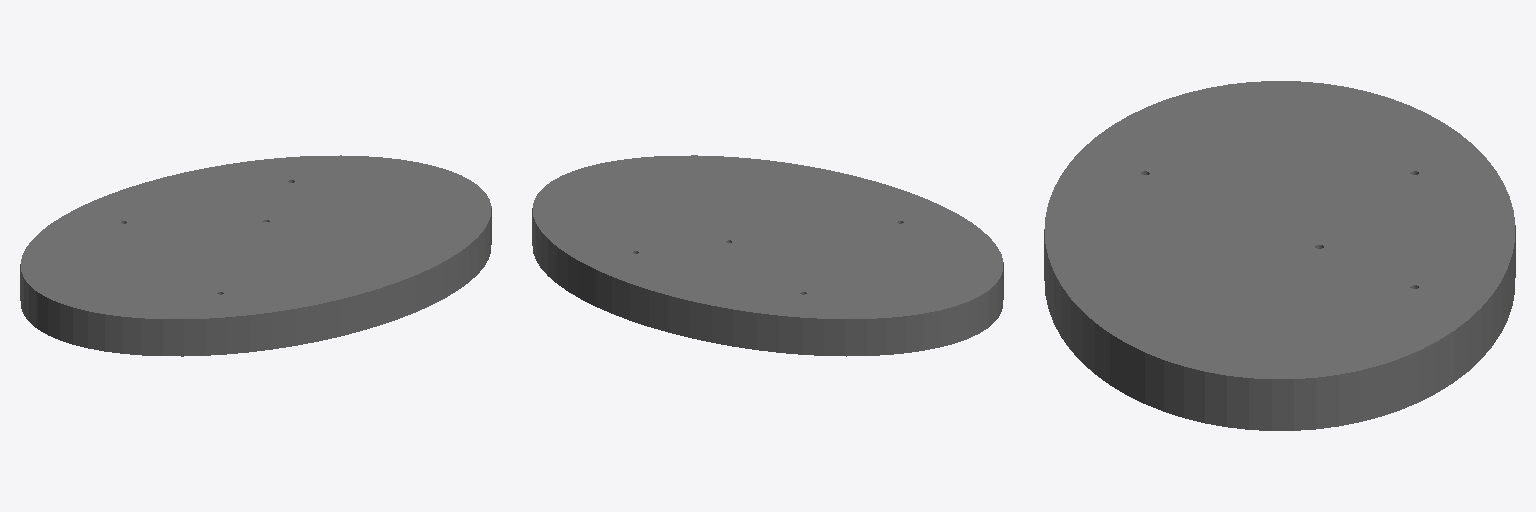
--- Render facts (derived) ---
Views: 3 orthographic renders of the robot side by side, from view 1: azimuth 30°, elevation 25°; view 2: azimuth 150°, elevation 25°; view 3: azimuth 270°, elevation 25°.
Model push_object with 5 links and 4 joints (1 continuous, 3 prismatic), rooted at link_x, posed every joint at zero.
Visible links, largest first — view 1: link_object; view 2: link_object; view 3: link_object.
Boxes of the visible links, x1,y1,x2,y2 form: link_object: (20,155,491,356); link_object: (532,155,1003,356); link_object: (1044,81,1515,430).
Size in the robot's own frame: 0.1572 by 0.1048 by 0.0127 metres.
Meshes: 1 distinct files referenced, 1 mesh visuals loaded (1 OBJ).

The robot description file, URDF, robot "push_object":
<?xml version="1.0" ?>
<robot name="push_object">
  <link name="link_x">
    <inertial>
      <mass value="0"/>
      <inertia ixx="1.0" ixy="0.0" ixz="0.0" iyy="1.0" iyz="0.0" izz="1.0"/>
    </inertial>
  </link>

  <link name="link_y">
    <inertial>
      <mass value="0"/>
      <inertia ixx="1.0" ixy="0.0" ixz="0.0" iyy="1.0" iyz="0.0" izz="1.0"/>
    </inertial>
  </link>
  
  <link name="link_z">
    <inertial>
      <mass value="0"/>
      <inertia ixx="1.0" ixy="0.0" ixz="0.0" iyy="1.0" iyz="0.0" izz="1.0"/>
    </inertial>
  </link>
  
  <link name="link_yaw">
    <inertial>
      <mass value="0"/>
      <inertia ixx="1.0" ixy="0.0" ixz="0.0" iyy="1.0" iyz="0.0" izz="1.0"/>
    </inertial>
  </link>

  <link name="link_object">
    <contact>
      <rolling_friction value="0.03"/>
      <spinning_friction value="0.03"/>
    </contact>

    <inertial>
      <origin rpy="0 0 0" xyz="0 0 0"/>
       <mass value="0.006350"/>
       <inertia ixx="1" ixy="0" ixz="0" iyy="1" iyz="0" izz="1.334000"/>
    </inertial>
    <visual>
      <origin rpy="0 0 0" xyz="0 0 0.002950"/>
      <geometry>
        <mesh filename="ellip3.obj" scale="1.0 1.0 1.0"/>      
      </geometry>
      <material name="gray">
        <color rgba="0.5 0.5 0.5 1"/>
        <specular rgb="1 1 1"/>
      </material>
    </visual>
    
    <collision>
      <origin rpy="0 0 0" xyz="-0.0700 -0.0200 -0.0063"/>
      <geometry>
        <sphere radius="0.0065"/>
      </geometry>
    </collision>
        
    <collision>
      <origin rpy="0 0 0" xyz="-0.0700 -0.0100 -0.0063"/>
      <geometry>
        <sphere radius="0.0065"/>
      </geometry>
    </collision>
        
    <collision>
      <origin rpy="0 0 0" xyz="-0.0700 0.0000 -0.0063"/>
      <geometry>
        <sphere radius="0.0065"/>
      </geometry>
    </collision>
        
    <collision>
      <origin rpy="0 0 0" xyz="-0.0700 0.0100 -0.0063"/>
      <geometry>
        <sphere radius="0.0065"/>
      </geometry>
    </collision>
        
    <collision>
      <origin rpy="0 0 0" xyz="-0.0700 0.0200 -0.0063"/>
      <geometry>
        <sphere radius="0.0065"/>
      </geometry>
    </collision>
        
    <collision>
      <origin rpy="0 0 0" xyz="-0.0600 -0.0300 -0.0063"/>
      <geometry>
        <sphere radius="0.0065"/>
      </geometry>
    </collision>
        
    <collision>
      <origin rpy="0 0 0" xyz="-0.0600 -0.0200 -0.0063"/>
      <geometry>
        <sphere radius="0.0065"/>
      </geometry>
    </collision>
        
    <collision>
      <origin rpy="0 0 0" xyz="-0.0600 -0.0100 -0.0063"/>
      <geometry>
        <sphere radius="0.0065"/>
      </geometry>
    </collision>
        
    <collision>
      <origin rpy="0 0 0" xyz="-0.0600 0.0000 -0.0063"/>
      <geometry>
        <sphere radius="0.0065"/>
      </geometry>
    </collision>
        
    <collision>
      <origin rpy="0 0 0" xyz="-0.0600 0.0100 -0.0063"/>
      <geometry>
        <sphere radius="0.0065"/>
      </geometry>
    </collision>
        
    <collision>
      <origin rpy="0 0 0" xyz="-0.0600 0.0200 -0.0063"/>
      <geometry>
        <sphere radius="0.0065"/>
      </geometry>
    </collision>
        
    <collision>
      <origin rpy="0 0 0" xyz="-0.0600 0.0300 -0.0063"/>
      <geometry>
        <sphere radius="0.0065"/>
      </geometry>
    </collision>
        
    <collision>
      <origin rpy="0 0 0" xyz="-0.0500 -0.0400 -0.0063"/>
      <geometry>
        <sphere radius="0.0065"/>
      </geometry>
    </collision>
        
    <collision>
      <origin rpy="0 0 0" xyz="-0.0500 -0.0300 -0.0063"/>
      <geometry>
        <sphere radius="0.0065"/>
      </geometry>
    </collision>
        
    <collision>
      <origin rpy="0 0 0" xyz="-0.0500 -0.0200 -0.0063"/>
      <geometry>
        <sphere radius="0.0065"/>
      </geometry>
    </collision>
        
    <collision>
      <origin rpy="0 0 0" xyz="-0.0500 -0.0100 -0.0063"/>
      <geometry>
        <sphere radius="0.0065"/>
      </geometry>
    </collision>
        
    <collision>
      <origin rpy="0 0 0" xyz="-0.0500 0.0000 -0.0063"/>
      <geometry>
        <sphere radius="0.0065"/>
      </geometry>
    </collision>
        
    <collision>
      <origin rpy="0 0 0" xyz="-0.0500 0.0100 -0.0063"/>
      <geometry>
        <sphere radius="0.0065"/>
      </geometry>
    </collision>
        
    <collision>
      <origin rpy="0 0 0" xyz="-0.0500 0.0200 -0.0063"/>
      <geometry>
        <sphere radius="0.0065"/>
      </geometry>
    </collision>
        
    <collision>
      <origin rpy="0 0 0" xyz="-0.0500 0.0300 -0.0063"/>
      <geometry>
        <sphere radius="0.0065"/>
      </geometry>
    </collision>
        
    <collision>
      <origin rpy="0 0 0" xyz="-0.0500 0.0400 -0.0063"/>
      <geometry>
        <sphere radius="0.0065"/>
      </geometry>
    </collision>
        
    <collision>
      <origin rpy="0 0 0" xyz="-0.0400 -0.0400 -0.0063"/>
      <geometry>
        <sphere radius="0.0065"/>
      </geometry>
    </collision>
        
    <collision>
      <origin rpy="0 0 0" xyz="-0.0400 -0.0300 -0.0063"/>
      <geometry>
        <sphere radius="0.0065"/>
      </geometry>
    </collision>
        
    <collision>
      <origin rpy="0 0 0" xyz="-0.0400 -0.0200 -0.0063"/>
      <geometry>
        <sphere radius="0.0065"/>
      </geometry>
    </collision>
        
    <collision>
      <origin rpy="0 0 0" xyz="-0.0400 -0.0100 -0.0063"/>
      <geometry>
        <sphere radius="0.0065"/>
      </geometry>
    </collision>
        
    <collision>
      <origin rpy="0 0 0" xyz="-0.0400 0.0000 -0.0063"/>
      <geometry>
        <sphere radius="0.0065"/>
      </geometry>
    </collision>
        
    <collision>
      <origin rpy="0 0 0" xyz="-0.0400 0.0100 -0.0063"/>
      <geometry>
        <sphere radius="0.0065"/>
      </geometry>
    </collision>
        
    <collision>
      <origin rpy="0 0 0" xyz="-0.0400 0.0200 -0.0063"/>
      <geometry>
        <sphere radius="0.0065"/>
      </geometry>
    </collision>
        
    <collision>
      <origin rpy="0 0 0" xyz="-0.0400 0.0300 -0.0063"/>
      <geometry>
        <sphere radius="0.0065"/>
      </geometry>
    </collision>
        
    <collision>
      <origin rpy="0 0 0" xyz="-0.0400 0.0400 -0.0063"/>
      <geometry>
        <sphere radius="0.0065"/>
      </geometry>
    </collision>
        
    <collision>
      <origin rpy="0 0 0" xyz="-0.0300 -0.0400 -0.0063"/>
      <geometry>
        <sphere radius="0.0065"/>
      </geometry>
    </collision>
        
    <collision>
      <origin rpy="0 0 0" xyz="-0.0300 -0.0300 -0.0063"/>
      <geometry>
        <sphere radius="0.0065"/>
      </geometry>
    </collision>
        
    <collision>
      <origin rpy="0 0 0" xyz="-0.0300 -0.0200 -0.0063"/>
      <geometry>
        <sphere radius="0.0065"/>
      </geometry>
    </collision>
        
    <collision>
      <origin rpy="0 0 0" xyz="-0.0300 -0.0100 -0.0063"/>
      <geometry>
        <sphere radius="0.0065"/>
      </geometry>
    </collision>
        
    <collision>
      <origin rpy="0 0 0" xyz="-0.0300 0.0000 -0.0063"/>
      <geometry>
        <sphere radius="0.0065"/>
      </geometry>
    </collision>
        
    <collision>
      <origin rpy="0 0 0" xyz="-0.0300 0.0100 -0.0063"/>
      <geometry>
        <sphere radius="0.0065"/>
      </geometry>
    </collision>
        
    <collision>
      <origin rpy="0 0 0" xyz="-0.0300 0.0200 -0.0063"/>
      <geometry>
        <sphere radius="0.0065"/>
      </geometry>
    </collision>
        
    <collision>
      <origin rpy="0 0 0" xyz="-0.0300 0.0300 -0.0063"/>
      <geometry>
        <sphere radius="0.0065"/>
      </geometry>
    </collision>
        
    <collision>
      <origin rpy="0 0 0" xyz="-0.0300 0.0400 -0.0063"/>
      <geometry>
        <sphere radius="0.0065"/>
      </geometry>
    </collision>
        
    <collision>
      <origin rpy="0 0 0" xyz="-0.0200 -0.0500 -0.0063"/>
      <geometry>
        <sphere radius="0.0065"/>
      </geometry>
    </collision>
        
    <collision>
      <origin rpy="0 0 0" xyz="-0.0200 -0.0400 -0.0063"/>
      <geometry>
        <sphere radius="0.0065"/>
      </geometry>
    </collision>
        
    <collision>
      <origin rpy="0 0 0" xyz="-0.0200 -0.0300 -0.0063"/>
      <geometry>
        <sphere radius="0.0065"/>
      </geometry>
    </collision>
        
    <collision>
      <origin rpy="0 0 0" xyz="-0.0200 -0.0200 -0.0063"/>
      <geometry>
        <sphere radius="0.0065"/>
      </geometry>
    </collision>
        
    <collision>
      <origin rpy="0 0 0" xyz="-0.0200 -0.0100 -0.0063"/>
      <geometry>
        <sphere radius="0.0065"/>
      </geometry>
    </collision>
        
    <collision>
      <origin rpy="0 0 0" xyz="-0.0200 0.0000 -0.0063"/>
      <geometry>
        <sphere radius="0.0065"/>
      </geometry>
    </collision>
        
    <collision>
      <origin rpy="0 0 0" xyz="-0.0200 0.0100 -0.0063"/>
      <geometry>
        <sphere radius="0.0065"/>
      </geometry>
    </collision>
        
    <collision>
      <origin rpy="0 0 0" xyz="-0.0200 0.0200 -0.0063"/>
      <geometry>
        <sphere radius="0.0065"/>
      </geometry>
    </collision>
        
    <collision>
      <origin rpy="0 0 0" xyz="-0.0200 0.0300 -0.0063"/>
      <geometry>
        <sphere radius="0.0065"/>
      </geometry>
    </collision>
        
    <collision>
      <origin rpy="0 0 0" xyz="-0.0200 0.0400 -0.0063"/>
      <geometry>
        <sphere radius="0.0065"/>
      </geometry>
    </collision>
        
    <collision>
      <origin rpy="0 0 0" xyz="-0.0200 0.0500 -0.0063"/>
      <geometry>
        <sphere radius="0.0065"/>
      </geometry>
    </collision>
        
    <collision>
      <origin rpy="0 0 0" xyz="-0.0100 -0.0500 -0.0063"/>
      <geometry>
        <sphere radius="0.0065"/>
      </geometry>
    </collision>
        
    <collision>
      <origin rpy="0 0 0" xyz="-0.0100 -0.0400 -0.0063"/>
      <geometry>
        <sphere radius="0.0065"/>
      </geometry>
    </collision>
        
    <collision>
      <origin rpy="0 0 0" xyz="-0.0100 -0.0300 -0.0063"/>
      <geometry>
        <sphere radius="0.0065"/>
      </geometry>
    </collision>
        
    <collision>
      <origin rpy="0 0 0" xyz="-0.0100 -0.0200 -0.0063"/>
      <geometry>
        <sphere radius="0.0065"/>
      </geometry>
    </collision>
        
    <collision>
      <origin rpy="0 0 0" xyz="-0.0100 -0.0100 -0.0063"/>
      <geometry>
        <sphere radius="0.0065"/>
      </geometry>
    </collision>
        
    <collision>
      <origin rpy="0 0 0" xyz="-0.0100 0.0000 -0.0063"/>
      <geometry>
        <sphere radius="0.0065"/>
      </geometry>
    </collision>
        
    <collision>
      <origin rpy="0 0 0" xyz="-0.0100 0.0100 -0.0063"/>
      <geometry>
        <sphere radius="0.0065"/>
      </geometry>
    </collision>
        
    <collision>
      <origin rpy="0 0 0" xyz="-0.0100 0.0200 -0.0063"/>
      <geometry>
        <sphere radius="0.0065"/>
      </geometry>
    </collision>
        
    <collision>
      <origin rpy="0 0 0" xyz="-0.0100 0.0300 -0.0063"/>
      <geometry>
        <sphere radius="0.0065"/>
      </geometry>
    </collision>
        
    <collision>
      <origin rpy="0 0 0" xyz="-0.0100 0.0400 -0.0063"/>
      <geometry>
        <sphere radius="0.0065"/>
      </geometry>
    </collision>
        
    <collision>
      <origin rpy="0 0 0" xyz="-0.0100 0.0500 -0.0063"/>
      <geometry>
        <sphere radius="0.0065"/>
      </geometry>
    </collision>
        
    <collision>
      <origin rpy="0 0 0" xyz="-0.0000 -0.0500 -0.0063"/>
      <geometry>
        <sphere radius="0.0065"/>
      </geometry>
    </collision>
        
    <collision>
      <origin rpy="0 0 0" xyz="-0.0000 -0.0400 -0.0063"/>
      <geometry>
        <sphere radius="0.0065"/>
      </geometry>
    </collision>
        
    <collision>
      <origin rpy="0 0 0" xyz="-0.0000 -0.0300 -0.0063"/>
      <geometry>
        <sphere radius="0.0065"/>
      </geometry>
    </collision>
        
    <collision>
      <origin rpy="0 0 0" xyz="-0.0000 -0.0200 -0.0063"/>
      <geometry>
        <sphere radius="0.0065"/>
      </geometry>
    </collision>
        
    <collision>
      <origin rpy="0 0 0" xyz="-0.0000 -0.0100 -0.0063"/>
      <geometry>
        <sphere radius="0.0065"/>
      </geometry>
    </collision>
        
    <collision>
      <origin rpy="0 0 0" xyz="-0.0000 0.0000 -0.0063"/>
      <geometry>
        <sphere radius="0.0065"/>
      </geometry>
    </collision>
        
    <collision>
      <origin rpy="0 0 0" xyz="-0.0000 0.0100 -0.0063"/>
      <geometry>
        <sphere radius="0.0065"/>
      </geometry>
    </collision>
        
    <collision>
      <origin rpy="0 0 0" xyz="-0.0000 0.0200 -0.0063"/>
      <geometry>
        <sphere radius="0.0065"/>
      </geometry>
    </collision>
        
    <collision>
      <origin rpy="0 0 0" xyz="-0.0000 0.0300 -0.0063"/>
      <geometry>
        <sphere radius="0.0065"/>
      </geometry>
    </collision>
        
    <collision>
      <origin rpy="0 0 0" xyz="-0.0000 0.0400 -0.0063"/>
      <geometry>
        <sphere radius="0.0065"/>
      </geometry>
    </collision>
        
    <collision>
      <origin rpy="0 0 0" xyz="-0.0000 0.0500 -0.0063"/>
      <geometry>
        <sphere radius="0.0065"/>
      </geometry>
    </collision>
        
    <collision>
      <origin rpy="0 0 0" xyz="0.0100 -0.0500 -0.0063"/>
      <geometry>
        <sphere radius="0.0065"/>
      </geometry>
    </collision>
        
    <collision>
      <origin rpy="0 0 0" xyz="0.0100 -0.0400 -0.0063"/>
      <geometry>
        <sphere radius="0.0065"/>
      </geometry>
    </collision>
        
    <collision>
      <origin rpy="0 0 0" xyz="0.0100 -0.0300 -0.0063"/>
      <geometry>
        <sphere radius="0.0065"/>
      </geometry>
    </collision>
        
    <collision>
      <origin rpy="0 0 0" xyz="0.0100 -0.0200 -0.0063"/>
      <geometry>
        <sphere radius="0.0065"/>
      </geometry>
    </collision>
        
    <collision>
      <origin rpy="0 0 0" xyz="0.0100 -0.0100 -0.0063"/>
      <geometry>
        <sphere radius="0.0065"/>
      </geometry>
    </collision>
        
    <collision>
      <origin rpy="0 0 0" xyz="0.0100 0.0000 -0.0063"/>
      <geometry>
        <sphere radius="0.0065"/>
      </geometry>
    </collision>
        
    <collision>
      <origin rpy="0 0 0" xyz="0.0100 0.0100 -0.0063"/>
      <geometry>
        <sphere radius="0.0065"/>
      </geometry>
    </collision>
        
    <collision>
      <origin rpy="0 0 0" xyz="0.0100 0.0200 -0.0063"/>
      <geometry>
        <sphere radius="0.0065"/>
      </geometry>
    </collision>
        
    <collision>
      <origin rpy="0 0 0" xyz="0.0100 0.0300 -0.0063"/>
      <geometry>
        <sphere radius="0.0065"/>
      </geometry>
    </collision>
        
    <collision>
      <origin rpy="0 0 0" xyz="0.0100 0.0400 -0.0063"/>
      <geometry>
        <sphere radius="0.0065"/>
      </geometry>
    </collision>
        
    <collision>
      <origin rpy="0 0 0" xyz="0.0100 0.0500 -0.0063"/>
      <geometry>
        <sphere radius="0.0065"/>
      </geometry>
    </collision>
        
    <collision>
      <origin rpy="0 0 0" xyz="0.0200 -0.0500 -0.0063"/>
      <geometry>
        <sphere radius="0.0065"/>
      </geometry>
    </collision>
        
    <collision>
      <origin rpy="0 0 0" xyz="0.0200 -0.0400 -0.0063"/>
      <geometry>
        <sphere radius="0.0065"/>
      </geometry>
    </collision>
        
    <collision>
      <origin rpy="0 0 0" xyz="0.0200 -0.0300 -0.0063"/>
      <geometry>
        <sphere radius="0.0065"/>
      </geometry>
    </collision>
        
    <collision>
      <origin rpy="0 0 0" xyz="0.0200 -0.0200 -0.0063"/>
      <geometry>
        <sphere radius="0.0065"/>
      </geometry>
    </collision>
        
    <collision>
      <origin rpy="0 0 0" xyz="0.0200 -0.0100 -0.0063"/>
      <geometry>
        <sphere radius="0.0065"/>
      </geometry>
    </collision>
        
    <collision>
      <origin rpy="0 0 0" xyz="0.0200 0.0000 -0.0063"/>
      <geometry>
        <sphere radius="0.0065"/>
      </geometry>
    </collision>
        
    <collision>
      <origin rpy="0 0 0" xyz="0.0200 0.0100 -0.0063"/>
      <geometry>
        <sphere radius="0.0065"/>
      </geometry>
    </collision>
        
    <collision>
      <origin rpy="0 0 0" xyz="0.0200 0.0200 -0.0063"/>
      <geometry>
        <sphere radius="0.0065"/>
      </geometry>
    </collision>
        
    <collision>
      <origin rpy="0 0 0" xyz="0.0200 0.0300 -0.0063"/>
      <geometry>
        <sphere radius="0.0065"/>
      </geometry>
    </collision>
        
    <collision>
      <origin rpy="0 0 0" xyz="0.0200 0.0400 -0.0063"/>
      <geometry>
        <sphere radius="0.0065"/>
      </geometry>
    </collision>
        
    <collision>
      <origin rpy="0 0 0" xyz="0.0200 0.0500 -0.0063"/>
      <geometry>
        <sphere radius="0.0065"/>
      </geometry>
    </collision>
        
    <collision>
      <origin rpy="0 0 0" xyz="0.0300 -0.0400 -0.0063"/>
      <geometry>
        <sphere radius="0.0065"/>
      </geometry>
    </collision>
        
    <collision>
      <origin rpy="0 0 0" xyz="0.0300 -0.0300 -0.0063"/>
      <geometry>
        <sphere radius="0.0065"/>
      </geometry>
    </collision>
        
    <collision>
      <origin rpy="0 0 0" xyz="0.0300 -0.0200 -0.0063"/>
      <geometry>
        <sphere radius="0.0065"/>
      </geometry>
    </collision>
        
    <collision>
      <origin rpy="0 0 0" xyz="0.0300 -0.0100 -0.0063"/>
      <geometry>
        <sphere radius="0.0065"/>
      </geometry>
    </collision>
        
    <collision>
      <origin rpy="0 0 0" xyz="0.0300 0.0000 -0.0063"/>
      <geometry>
        <sphere radius="0.0065"/>
      </geometry>
    </collision>
        
    <collision>
      <origin rpy="0 0 0" xyz="0.0300 0.0100 -0.0063"/>
      <geometry>
        <sphere radius="0.0065"/>
      </geometry>
    </collision>
        
    <collision>
      <origin rpy="0 0 0" xyz="0.0300 0.0200 -0.0063"/>
      <geometry>
        <sphere radius="0.0065"/>
      </geometry>
    </collision>
        
    <collision>
      <origin rpy="0 0 0" xyz="0.0300 0.0300 -0.0063"/>
      <geometry>
        <sphere radius="0.0065"/>
      </geometry>
    </collision>
        
    <collision>
      <origin rpy="0 0 0" xyz="0.0300 0.0400 -0.0063"/>
      <geometry>
        <sphere radius="0.0065"/>
      </geometry>
    </collision>
        
    <collision>
      <origin rpy="0 0 0" xyz="0.0400 -0.0400 -0.0063"/>
      <geometry>
        <sphere radius="0.0065"/>
      </geometry>
    </collision>
        
    <collision>
      <origin rpy="0 0 0" xyz="0.0400 -0.0300 -0.0063"/>
      <geometry>
        <sphere radius="0.0065"/>
      </geometry>
    </collision>
        
    <collision>
      <origin rpy="0 0 0" xyz="0.0400 -0.0200 -0.0063"/>
      <geometry>
        <sphere radius="0.0065"/>
      </geometry>
    </collision>
        
    <collision>
      <origin rpy="0 0 0" xyz="0.0400 -0.0100 -0.0063"/>
      <geometry>
        <sphere radius="0.0065"/>
      </geometry>
    </collision>
        
    <collision>
      <origin rpy="0 0 0" xyz="0.0400 0.0000 -0.0063"/>
      <geometry>
        <sphere radius="0.0065"/>
      </geometry>
    </collision>
        
    <collision>
      <origin rpy="0 0 0" xyz="0.0400 0.0100 -0.0063"/>
      <geometry>
        <sphere radius="0.0065"/>
      </geometry>
    </collision>
        
    <collision>
      <origin rpy="0 0 0" xyz="0.0400 0.0200 -0.0063"/>
      <geometry>
        <sphere radius="0.0065"/>
      </geometry>
    </collision>
        
    <collision>
      <origin rpy="0 0 0" xyz="0.0400 0.0300 -0.0063"/>
      <geometry>
        <sphere radius="0.0065"/>
      </geometry>
    </collision>
        
    <collision>
      <origin rpy="0 0 0" xyz="0.0400 0.0400 -0.0063"/>
      <geometry>
        <sphere radius="0.0065"/>
      </geometry>
    </collision>
        
    <collision>
      <origin rpy="0 0 0" xyz="0.0500 -0.0400 -0.0063"/>
      <geometry>
        <sphere radius="0.0065"/>
      </geometry>
    </collision>
        
    <collision>
      <origin rpy="0 0 0" xyz="0.0500 -0.0300 -0.0063"/>
      <geometry>
        <sphere radius="0.0065"/>
      </geometry>
    </collision>
        
    <collision>
      <origin rpy="0 0 0" xyz="0.0500 -0.0200 -0.0063"/>
      <geometry>
        <sphere radius="0.0065"/>
      </geometry>
    </collision>
        
    <collision>
      <origin rpy="0 0 0" xyz="0.0500 -0.0100 -0.0063"/>
      <geometry>
        <sphere radius="0.0065"/>
      </geometry>
    </collision>
        
    <collision>
      <origin rpy="0 0 0" xyz="0.0500 0.0000 -0.0063"/>
      <geometry>
        <sphere radius="0.0065"/>
      </geometry>
    </collision>
        
    <collision>
      <origin rpy="0 0 0" xyz="0.0500 0.0100 -0.0063"/>
      <geometry>
        <sphere radius="0.0065"/>
      </geometry>
    </collision>
        
    <collision>
      <origin rpy="0 0 0" xyz="0.0500 0.0200 -0.0063"/>
      <geometry>
        <sphere radius="0.0065"/>
      </geometry>
    </collision>
        
    <collision>
      <origin rpy="0 0 0" xyz="0.0500 0.0300 -0.0063"/>
      <geometry>
        <sphere radius="0.0065"/>
      </geometry>
    </collision>
        
    <collision>
      <origin rpy="0 0 0" xyz="0.0500 0.0400 -0.0063"/>
      <geometry>
        <sphere radius="0.0065"/>
      </geometry>
    </collision>
        
    <collision>
      <origin rpy="0 0 0" xyz="0.0600 -0.0300 -0.0063"/>
      <geometry>
        <sphere radius="0.0065"/>
      </geometry>
    </collision>
        
    <collision>
      <origin rpy="0 0 0" xyz="0.0600 -0.0200 -0.0063"/>
      <geometry>
        <sphere radius="0.0065"/>
      </geometry>
    </collision>
        
    <collision>
      <origin rpy="0 0 0" xyz="0.0600 -0.0100 -0.0063"/>
      <geometry>
        <sphere radius="0.0065"/>
      </geometry>
    </collision>
        
    <collision>
      <origin rpy="0 0 0" xyz="0.0600 0.0000 -0.0063"/>
      <geometry>
        <sphere radius="0.0065"/>
      </geometry>
    </collision>
        
    <collision>
      <origin rpy="0 0 0" xyz="0.0600 0.0100 -0.0063"/>
      <geometry>
        <sphere radius="0.0065"/>
      </geometry>
    </collision>
        
    <collision>
      <origin rpy="0 0 0" xyz="0.0600 0.0200 -0.0063"/>
      <geometry>
        <sphere radius="0.0065"/>
      </geometry>
    </collision>
        
    <collision>
      <origin rpy="0 0 0" xyz="0.0600 0.0300 -0.0063"/>
      <geometry>
        <sphere radius="0.0065"/>
      </geometry>
    </collision>
        
    <collision>
      <origin rpy="0 0 0" xyz="0.0700 -0.0200 -0.0063"/>
      <geometry>
        <sphere radius="0.0065"/>
      </geometry>
    </collision>
        
    <collision>
      <origin rpy="0 0 0" xyz="0.0700 -0.0100 -0.0063"/>
      <geometry>
        <sphere radius="0.0065"/>
      </geometry>
    </collision>
        
    <collision>
      <origin rpy="0 0 0" xyz="0.0700 0.0000 -0.0063"/>
      <geometry>
        <sphere radius="0.0065"/>
      </geometry>
    </collision>
        
    <collision>
      <origin rpy="0 0 0" xyz="0.0700 0.0100 -0.0063"/>
      <geometry>
        <sphere radius="0.0065"/>
      </geometry>
    </collision>
        
    <collision>
      <origin rpy="0 0 0" xyz="0.0700 0.0200 -0.0063"/>
      <geometry>
        <sphere radius="0.0065"/>
      </geometry>
    </collision>
        
  </link>
  
  <joint name="joint_x" type="prismatic">
    <axis xyz="1 0 0"/>
    <origin xyz="0.0 0.0 0"/>
    <parent link="link_x"/>
    <child link="link_y"/>
    <limit effort="1000.0" lower="-15" upper="15" velocity="5"/>
  </joint>

  <joint name="joint_y" type="prismatic">
    <axis xyz="0 1 0"/>
    <origin xyz="0.0 0.0 0"/>
    <parent link="link_y"/>
    <child link="link_z"/>
    <limit effort="1000.0" lower="-15" upper="15" velocity="5"/>
  </joint>

  <joint name="joint_z" type="prismatic">
    <axis xyz="0 0 1"/>
    <origin xyz="0.0 0.0 0"/>
    <parent link="link_z"/>
    <child link="link_yaw"/>
    <limit effort="1000.0" lower="-15" upper="15" velocity="5"/>
  </joint>

  <joint name="joint_yaw" type="continuous">
    <axis xyz="0 0 1"/>
    <origin xyz="0.0 0.0 0"/>
    <parent link="link_yaw"/>
    <child link="link_object"/>
  </joint>
</robot>
